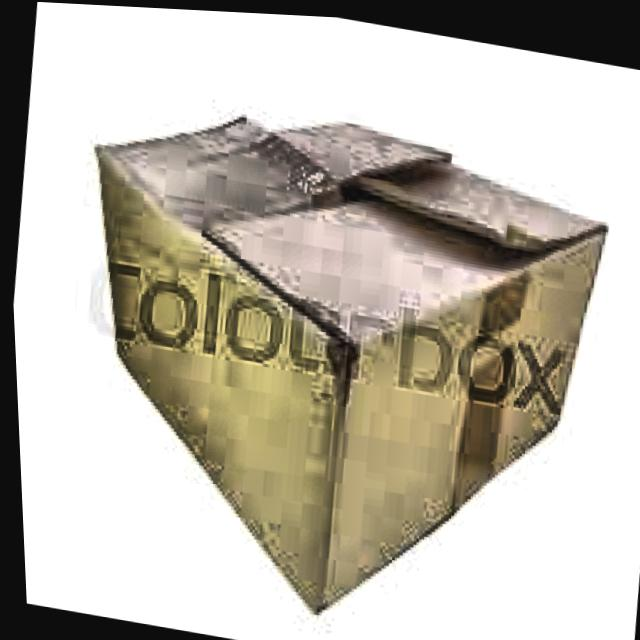Cardbox: (31, 60, 634, 640)
